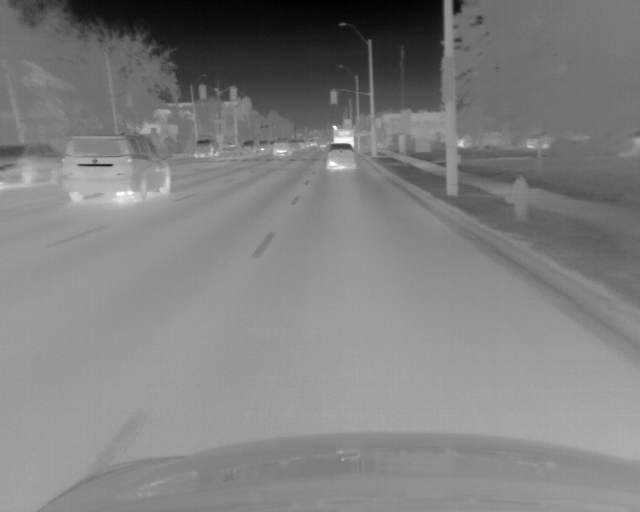car: (62, 134, 172, 201), (1, 142, 62, 190), (325, 144, 355, 171), (194, 139, 218, 159), (332, 124, 354, 145), (272, 139, 290, 156), (254, 139, 269, 156), (241, 139, 255, 156), (290, 139, 300, 152)
